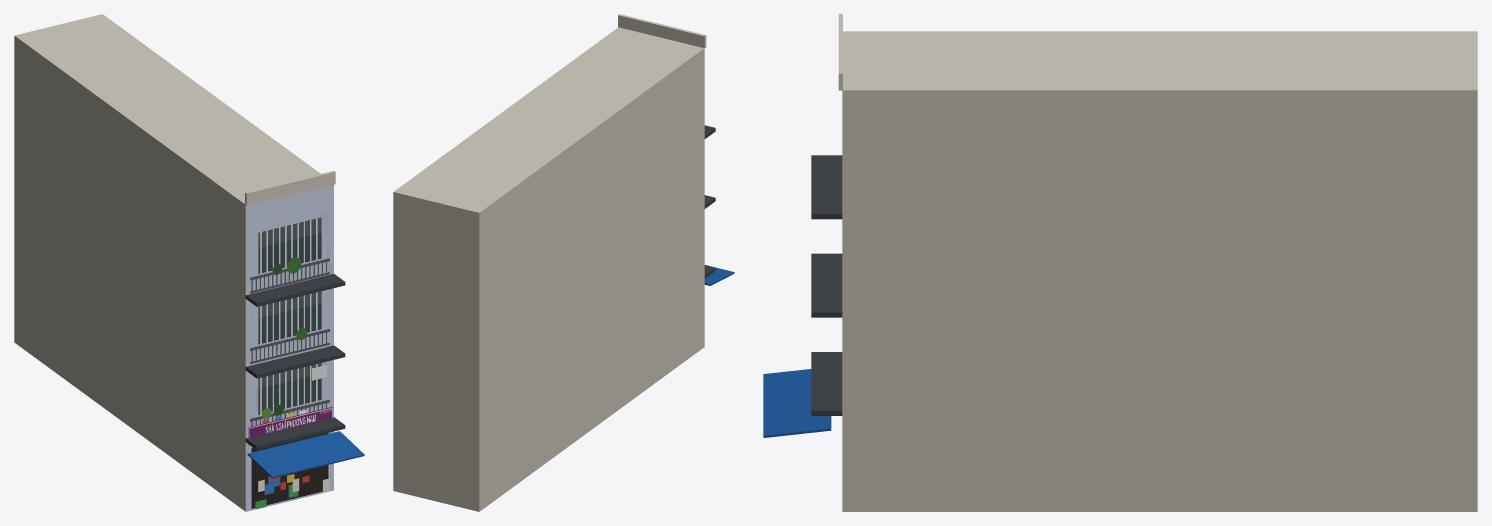
Rendered from tube_house_d.glb.
3 views of the same model, side by side, from view 1: azimuth 30°, elevation 25°; view 2: azimuth 150°, elevation 25°; view 3: azimuth 270°, elevation 25° (orthographic). The views are drawn at different scales.
Visible parts, largest first — view 1: tubehouse; view 2: tubehouse; view 3: tubehouse.
Boxes of the visible parts, box(x1,y1,x2,y2) form: tubehouse: box(14, 14, 364, 511); tubehouse: box(393, 14, 734, 511); tubehouse: box(763, 14, 1477, 511).
Size of the model in its own units: 4.71 by 15.6 by 23.03.
Materials: 5 (2 with a texture image).
